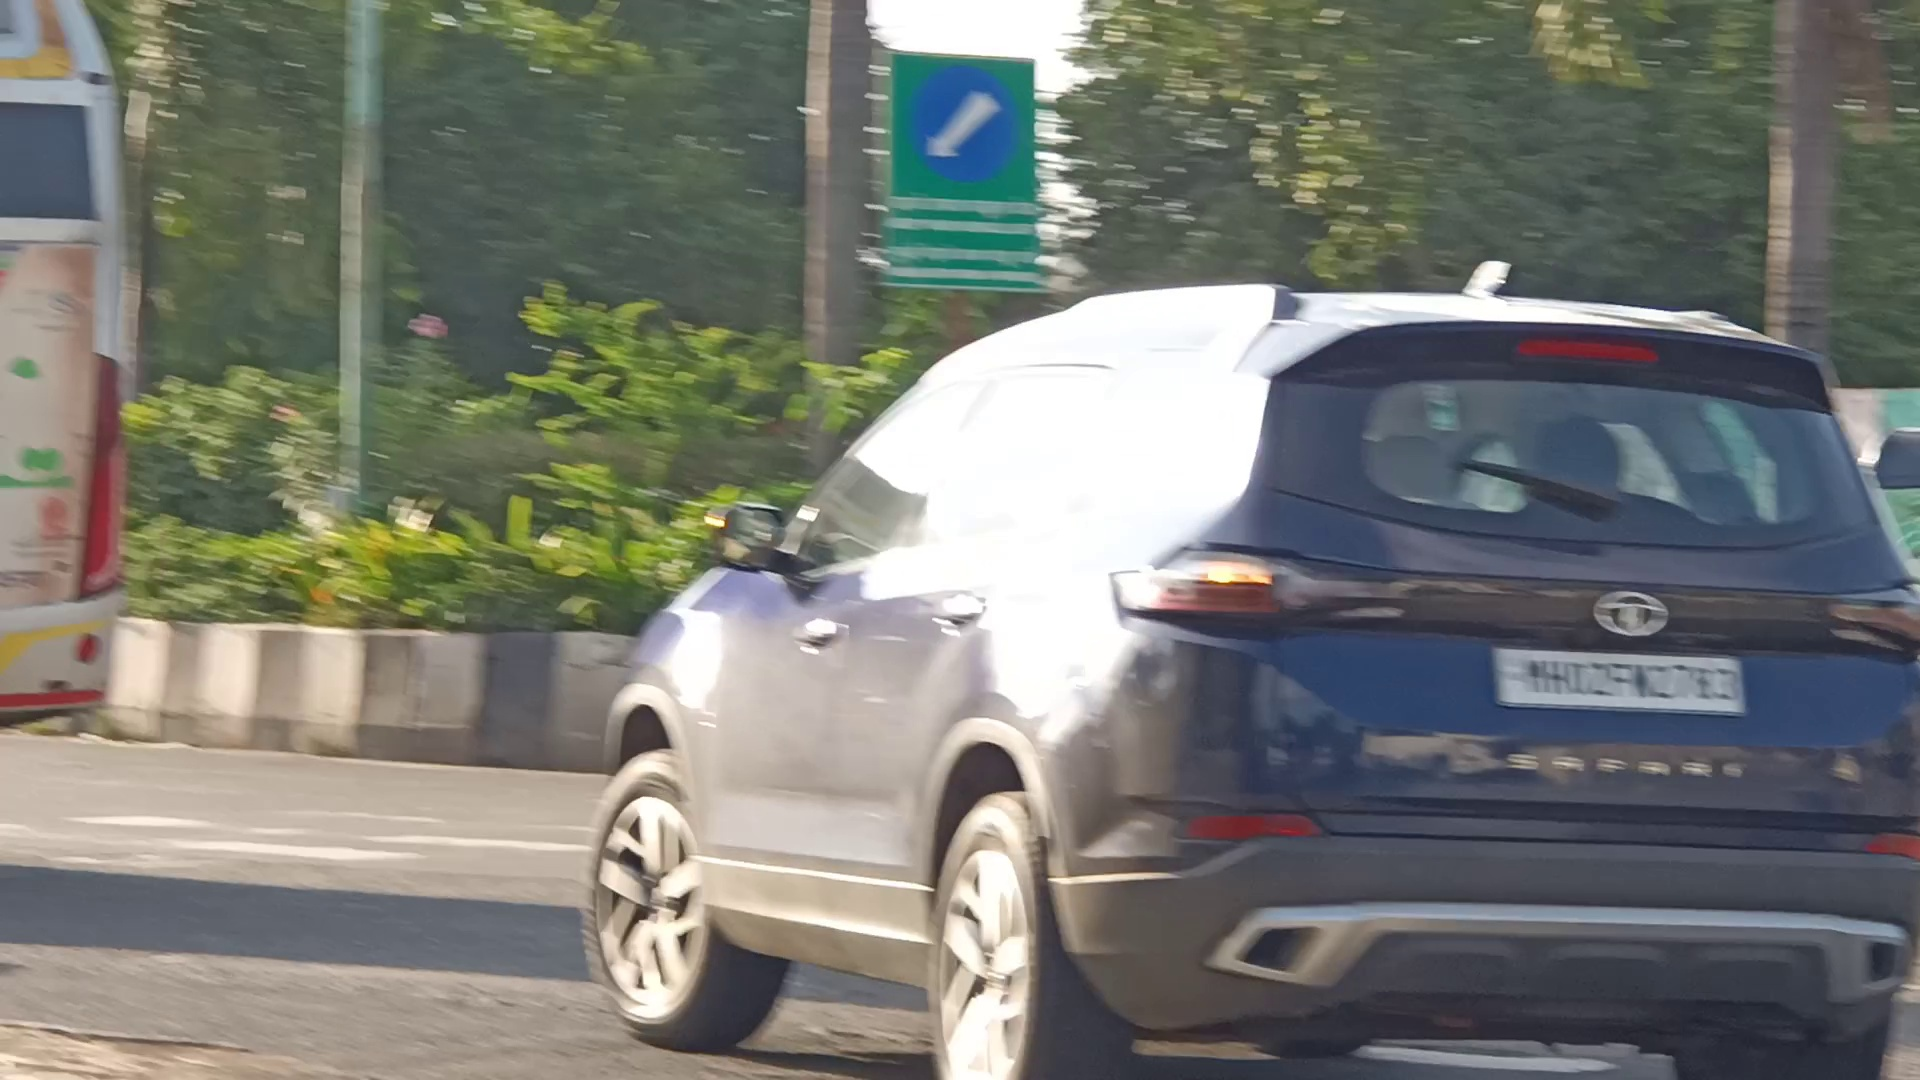MH02FN2783: (1492, 640, 1746, 715)
